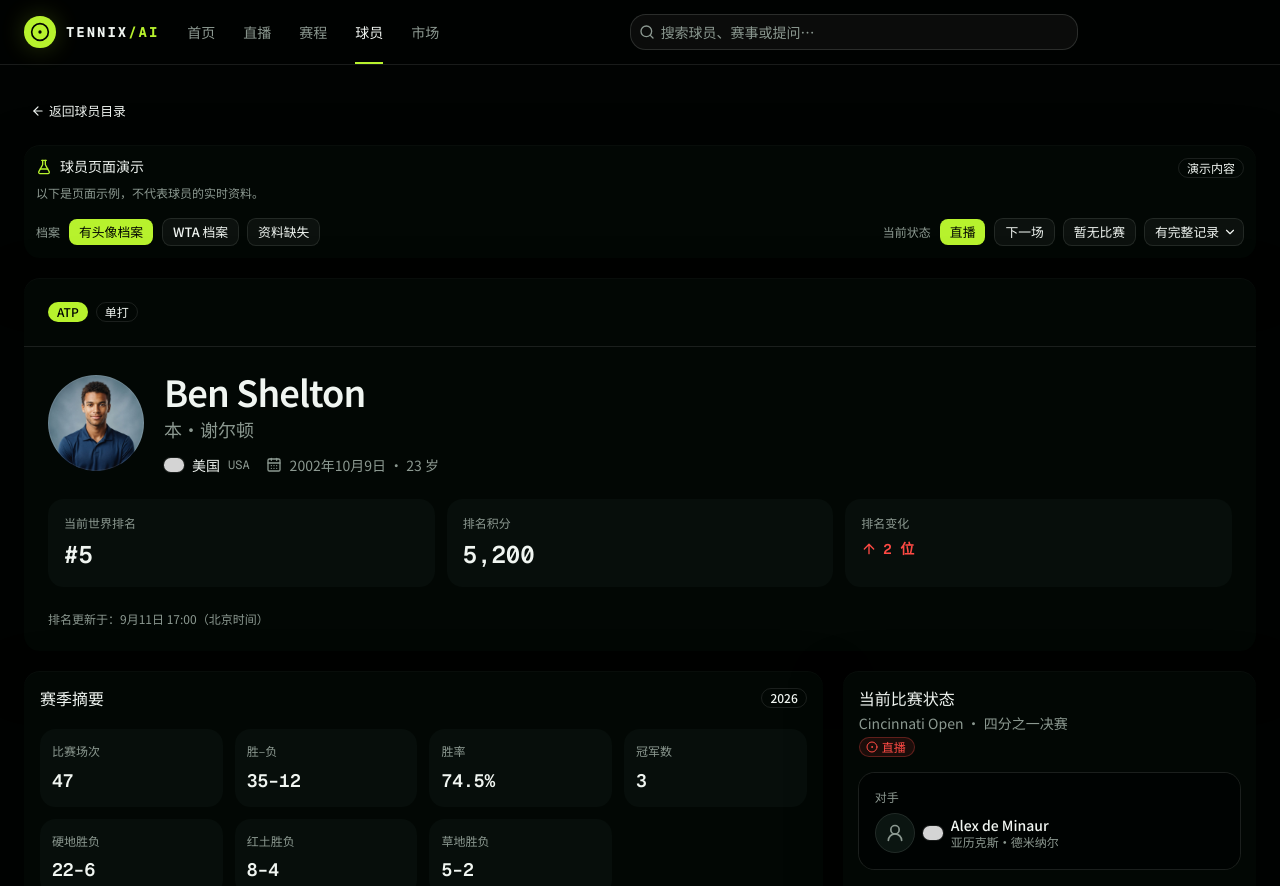
Scenario: PlayerProfilePage season summary › hides the season summary when the selected player has no summary data
Click the button "资料缺失".
click(284, 232)  # box [247,218,320,246]
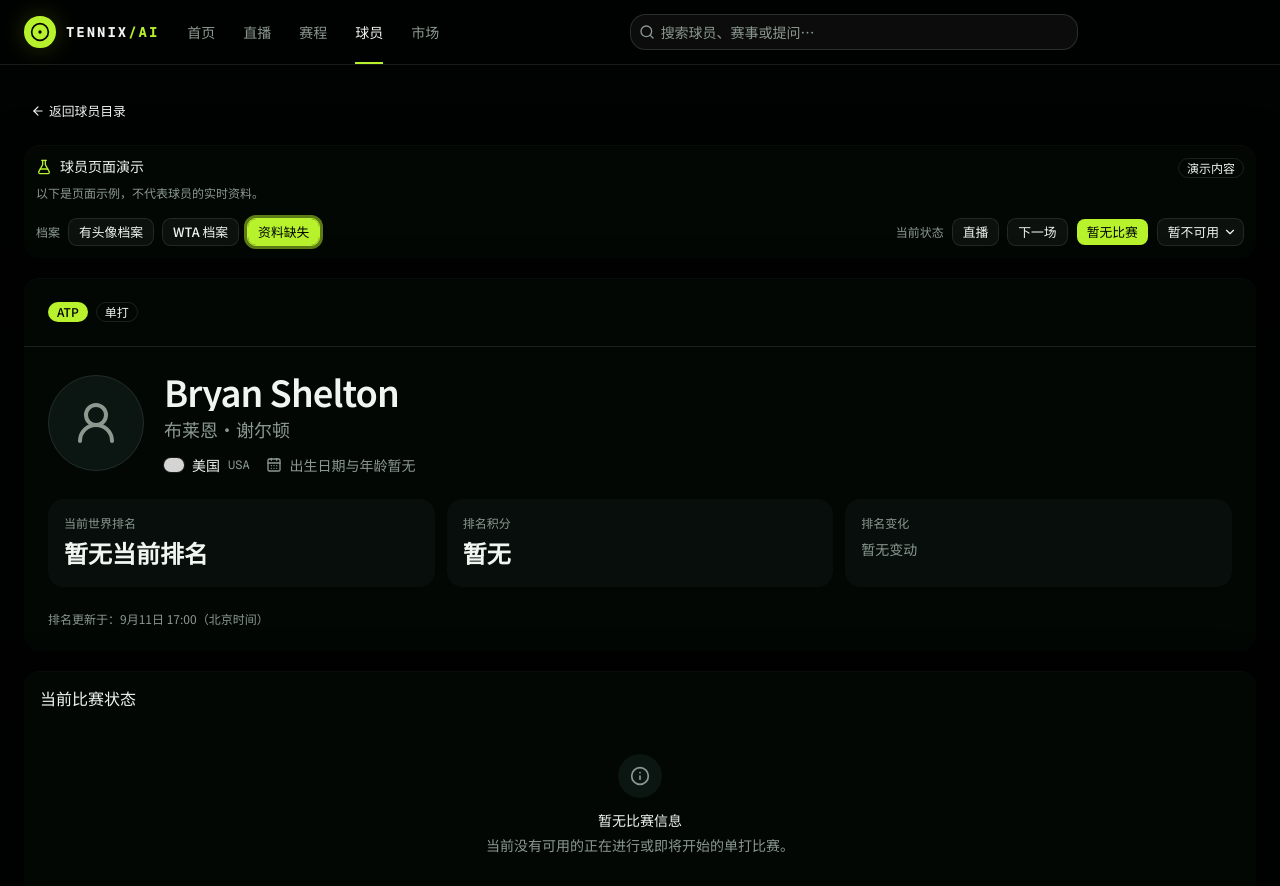
Now the heading "Bryan Shelton 布莱恩·谢尔顿" is shown, box [164,365,399,442]
Now the text "暂无当前排名" is shown, box [64,539,208,570]
Now the heading "赛季摘要" is gone
